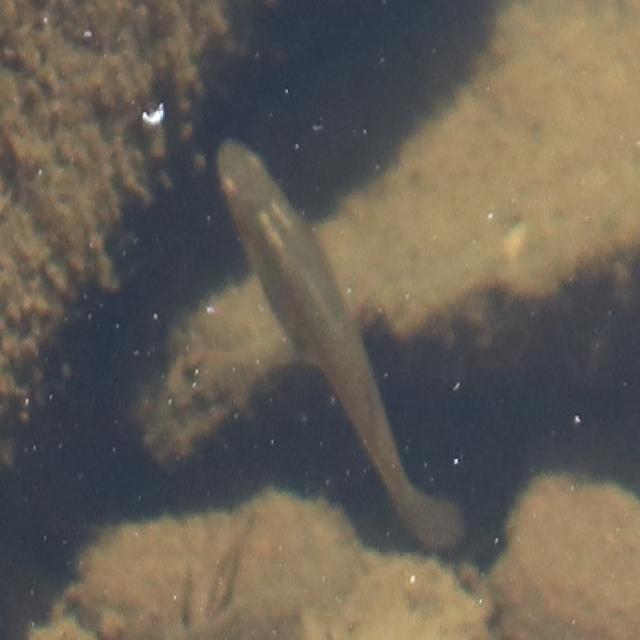Sivrisinek Baligi: (218, 137, 473, 559)
